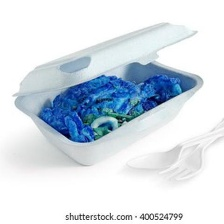foam_box: (6, 18, 208, 168)
